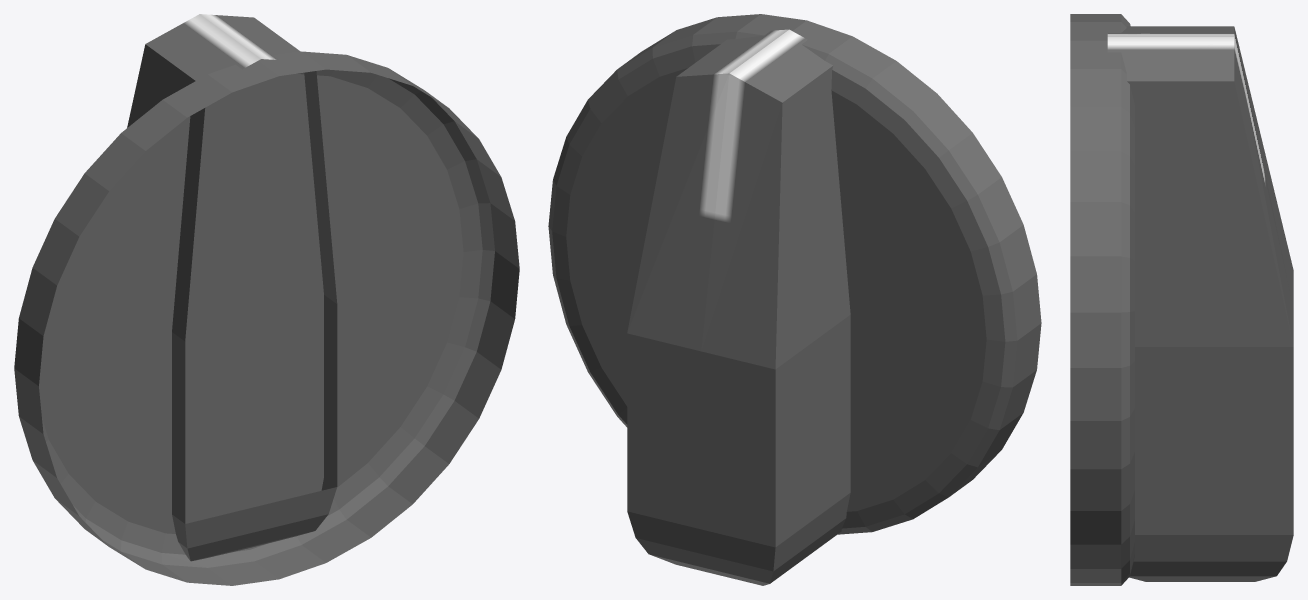
File: selector.obj
The picture shows the model from 3 angles, left to right: view 1: azimuth 30°, elevation 25°; view 2: azimuth 150°, elevation 25°; view 3: azimuth 270°, elevation 25°; orthographic projection. The views are drawn at different scales.
Parts seen in each view (by area): view 1: selector; view 2: selector; view 3: selector.
Part boxes in pixels (<box>): selector: <box>14,14,519,585</box>; selector: <box>548,14,1041,585</box>; selector: <box>1070,14,1293,585</box>.
Size of the model in its own units: 0.0204 by 0.0207 by 0.00798.
1 material, 1 textured.
